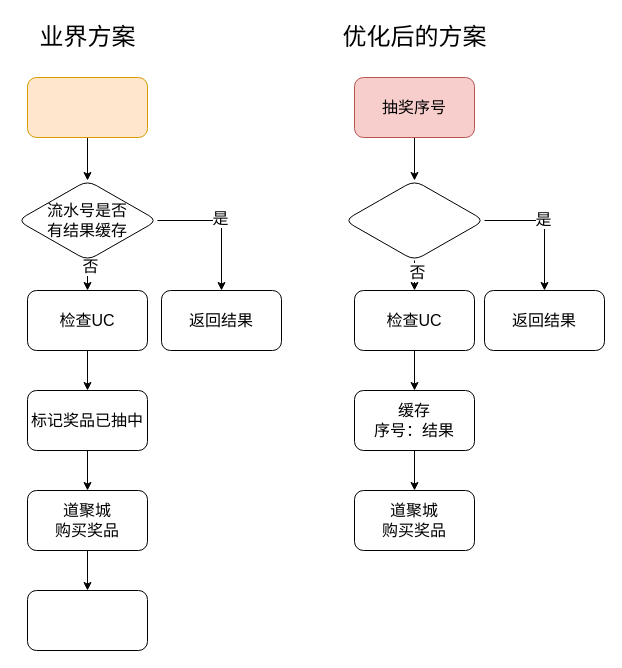
This 622x668 diagram has some shape labels left out. The shapes that lost their labels are listed below. From the top down, each one's centre as x and y in pixels, then its label:
At point (87, 107): "流水号".
At point (414, 220): "序号是否 有结果缓存".
At point (87, 620): "缓存 流水号：结果".
